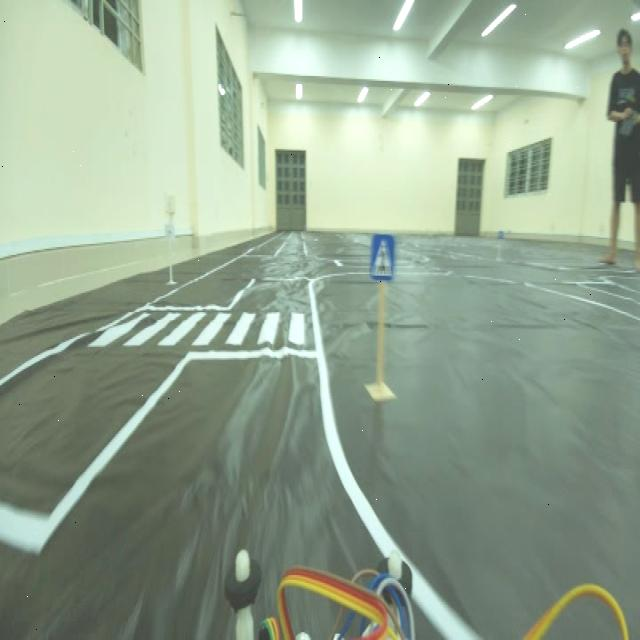crosswalk: (362, 229, 401, 286)
